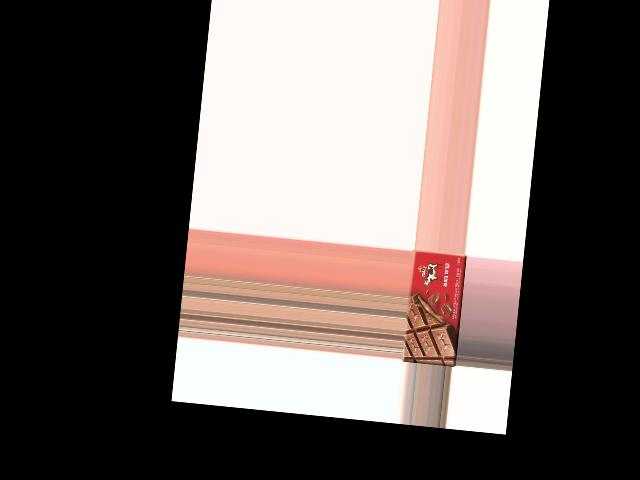chocolate: (402, 249, 466, 365)
